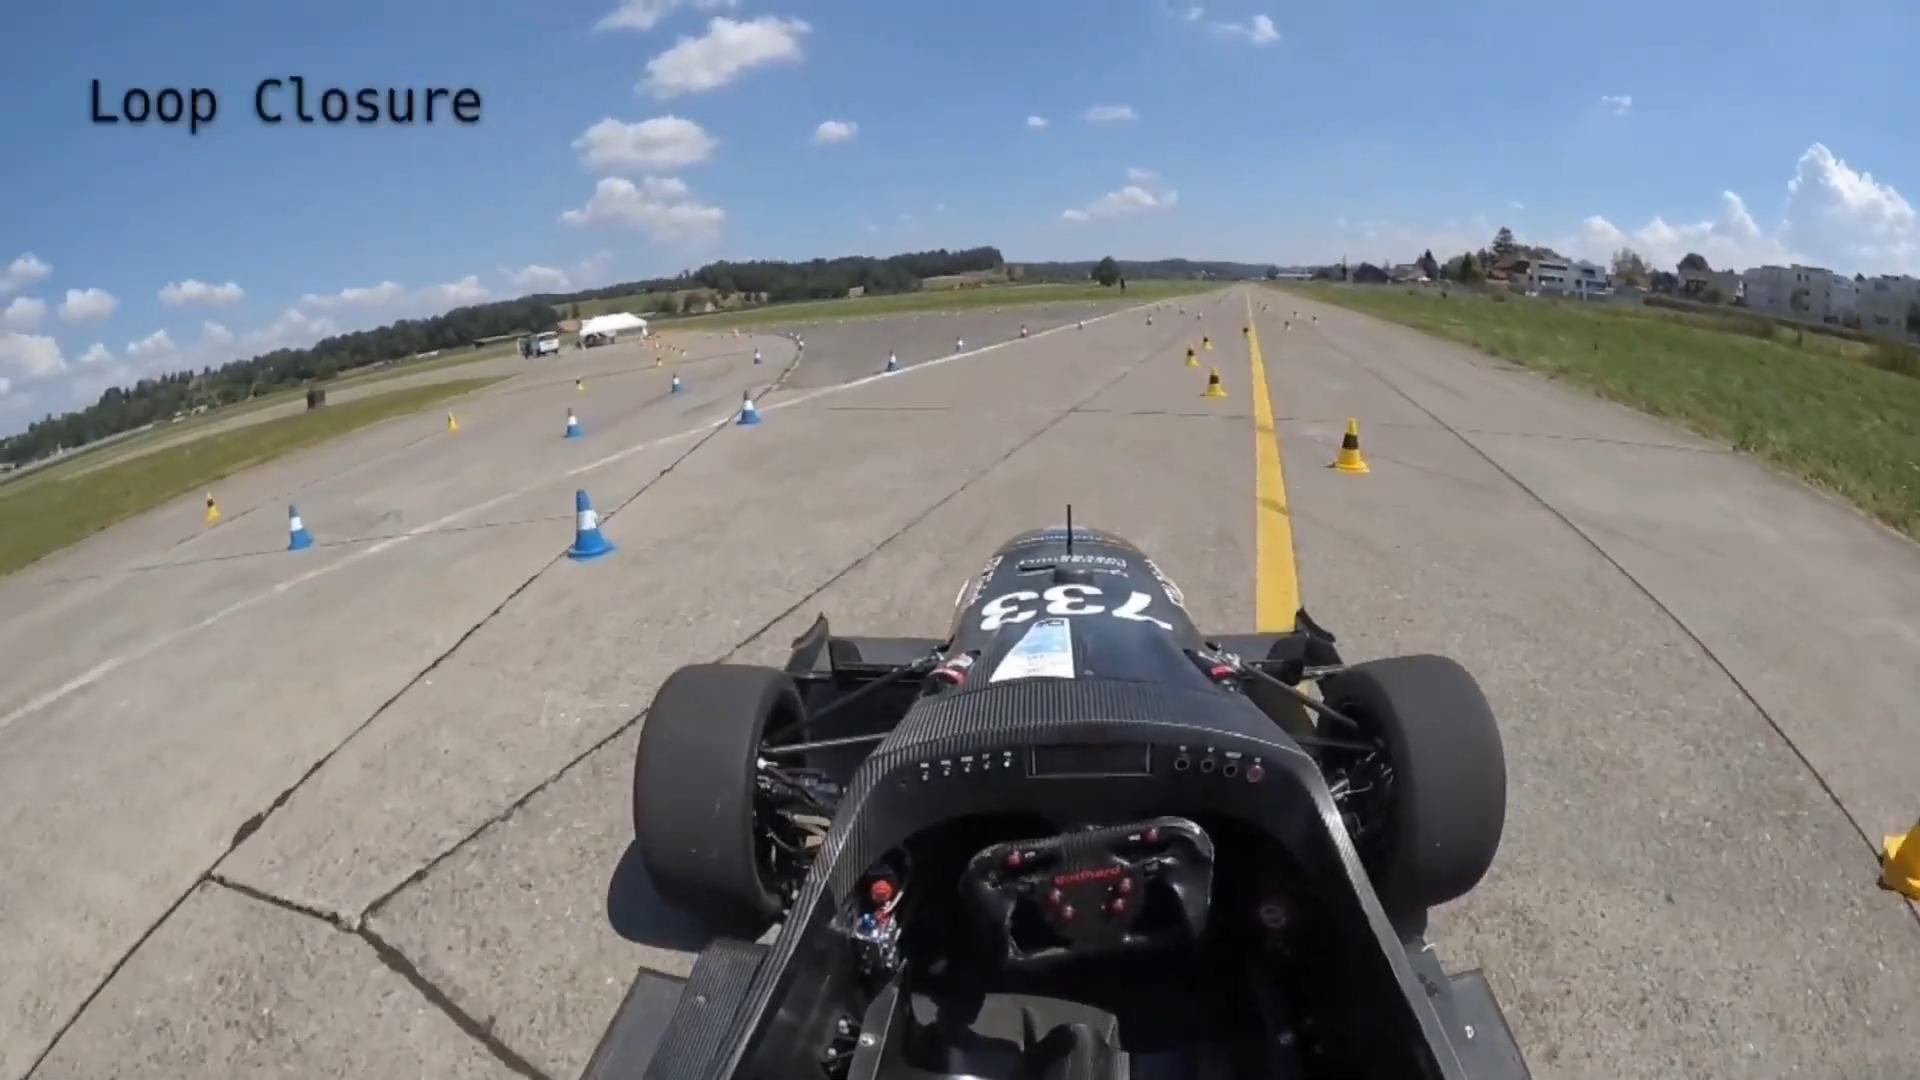blue_cone: (562, 487, 615, 567), (282, 501, 316, 554), (735, 390, 762, 431), (560, 406, 582, 444), (880, 348, 899, 377), (669, 369, 684, 396), (750, 347, 765, 368), (955, 332, 968, 353)
yellow_cone: (1327, 418, 1374, 473), (1201, 367, 1229, 398), (202, 491, 220, 525), (1183, 345, 1200, 369), (443, 409, 456, 433), (1200, 331, 1212, 353), (575, 375, 588, 394), (1241, 322, 1251, 340)
